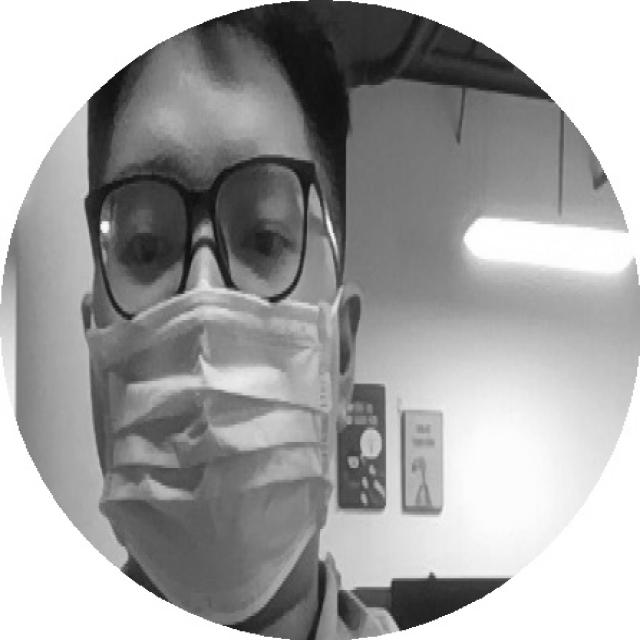fake: (77, 288, 340, 626)
real: (87, 152, 328, 287)
